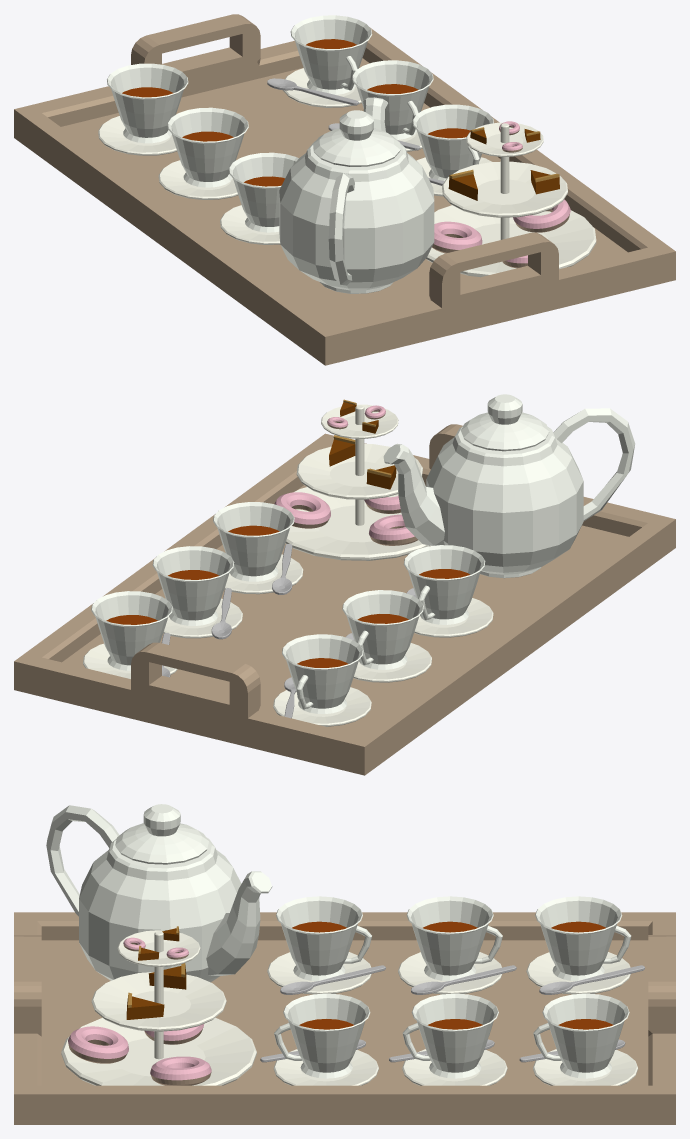
Rendered from Tea Set 1.fbx.
3 renders of one model, top to bottom at view 1: azimuth 30°, elevation 25°; view 2: azimuth 150°, elevation 25°; view 3: azimuth 270°, elevation 25°, orthographic. The views are drawn at different scales.
Parts seen in each view (by area): view 1: Torus.001; view 2: Torus.001; view 3: Torus.001.
Part boxes in pixels (box(x1,y1,x2,y2)): Torus.001: box(14, 14, 675, 365); Torus.001: box(14, 394, 675, 775); Torus.001: box(14, 804, 675, 1124).
Bounding box in the file's own units: 25.97 × 12.42 × 39.9.
